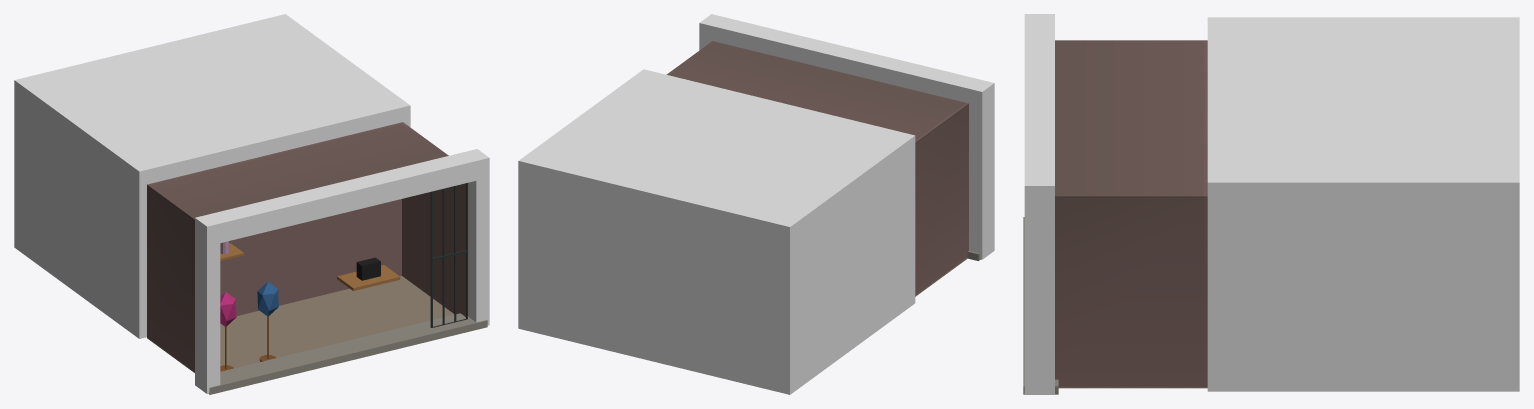
The model's file is tret_tiem_may_60.glb.
The picture shows the model from 3 angles, left to right: view 1: azimuth 30°, elevation 25°; view 2: azimuth 150°, elevation 25°; view 3: azimuth 270°, elevation 25°; orthographic projection. The views are drawn at different scales.
Visible parts, largest first — view 1: tret_tiem_may_60; view 2: tret_tiem_may_60; view 3: tret_tiem_may_60.
Boxes of the visible parts, x1,y1,x2,y2 form: tret_tiem_may_60: (14, 14, 489, 394); tret_tiem_may_60: (518, 14, 994, 394); tret_tiem_may_60: (1023, 14, 1519, 394).
Bounding box in the file's own units: 6 × 3.42 × 7.32.
